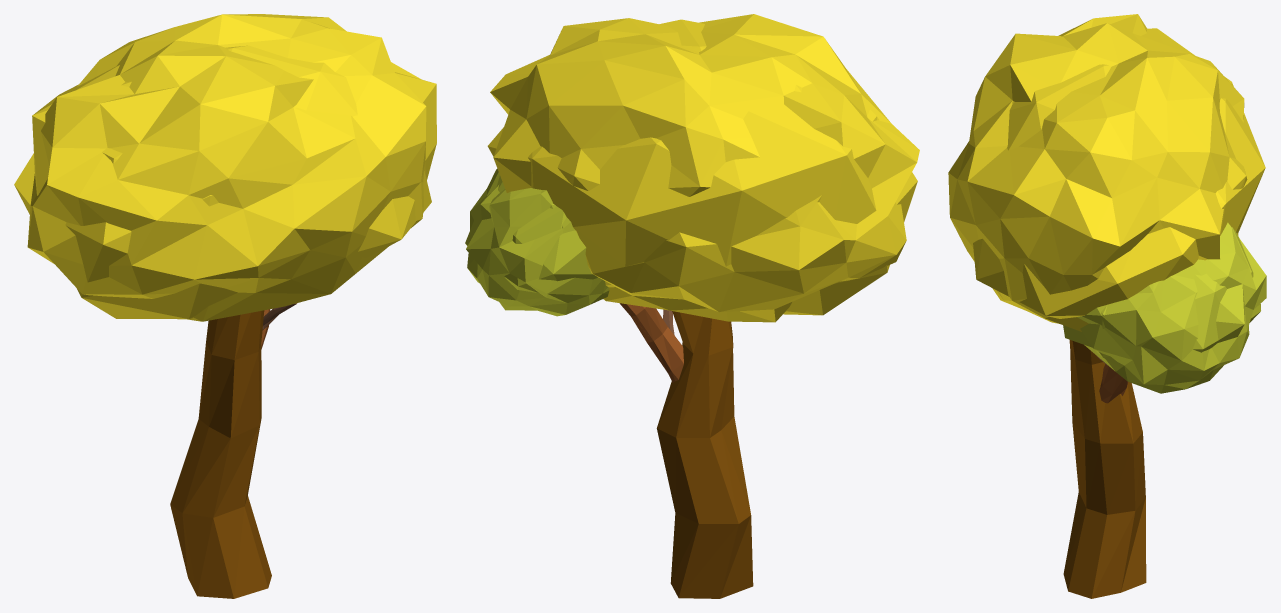
Rendered from Tree1.fbx.
3 views of the same model, side by side, from view 1: azimuth 30°, elevation 25°; view 2: azimuth 150°, elevation 25°; view 3: azimuth 270°, elevation 25° (orthographic). The views are drawn at different scales.
Visible parts, largest first — view 1: GeneratedLeaves, GeneratedBranch, LOD_Test_1; view 2: GeneratedLeaves, LOD_Test_1, GeneratedBranch, GeneratedLeaves_1, LOD_Test, GeneratedBranch_1; view 3: GeneratedLeaves, GeneratedBranch, GeneratedLeaves_1, LOD_Test_1, LOD_Test, GeneratedBranch_1.
Part boxes in pixels (box(x1,y1,x2,y2)): GeneratedLeaves: box(14, 14, 436, 321); GeneratedBranch: box(170, 310, 271, 598); LOD_Test_1: box(32, 45, 431, 319); GeneratedLeaves: box(490, 14, 919, 322); LOD_Test_1: box(487, 19, 917, 315); GeneratedBranch: box(656, 311, 753, 598); GeneratedLeaves_1: box(466, 168, 609, 316); LOD_Test: box(465, 185, 597, 293); GeneratedBranch_1: box(619, 303, 683, 382); GeneratedLeaves: box(948, 14, 1247, 331); GeneratedBranch: box(1063, 340, 1146, 598); GeneratedLeaves_1: box(1063, 222, 1266, 393); LOD_Test_1: box(973, 28, 1265, 318); LOD_Test: box(1096, 227, 1260, 367); GeneratedBranch_1: box(1099, 364, 1127, 403).
Size of what is drawn, in the model's own units: 801 by 1043 by 566.
